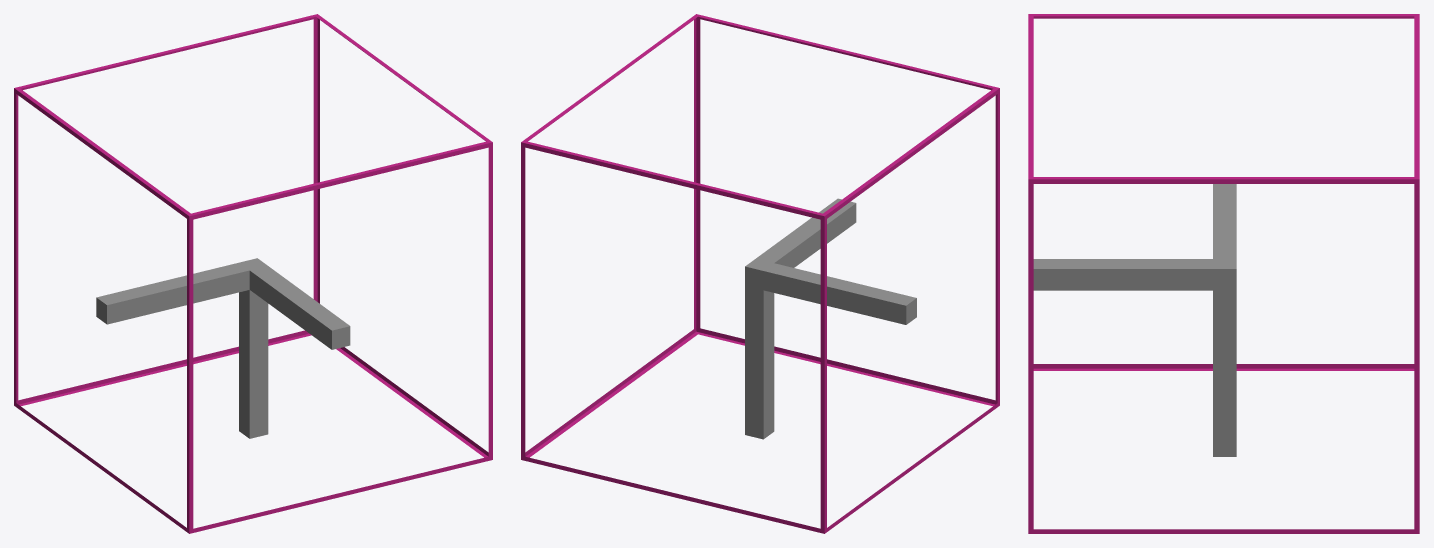
The model's file is point.FBX.
The picture shows the model from 3 angles, left to right: view 1: azimuth 30°, elevation 25°; view 2: azimuth 150°, elevation 25°; view 3: azimuth 270°, elevation 25°; orthographic projection. The views are drawn at different scales.
Parts seen in each view (by area): view 1: 对象026; view 2: 对象026; view 3: 对象026.
Boxes of the visible parts, x1,y1,x2,y2 form: 对象026: (14, 14, 492, 533); 对象026: (521, 14, 999, 533); 对象026: (1028, 14, 1419, 533).
Size of the model in its own units: 0.3121 by 0.3125 by 0.3121.
